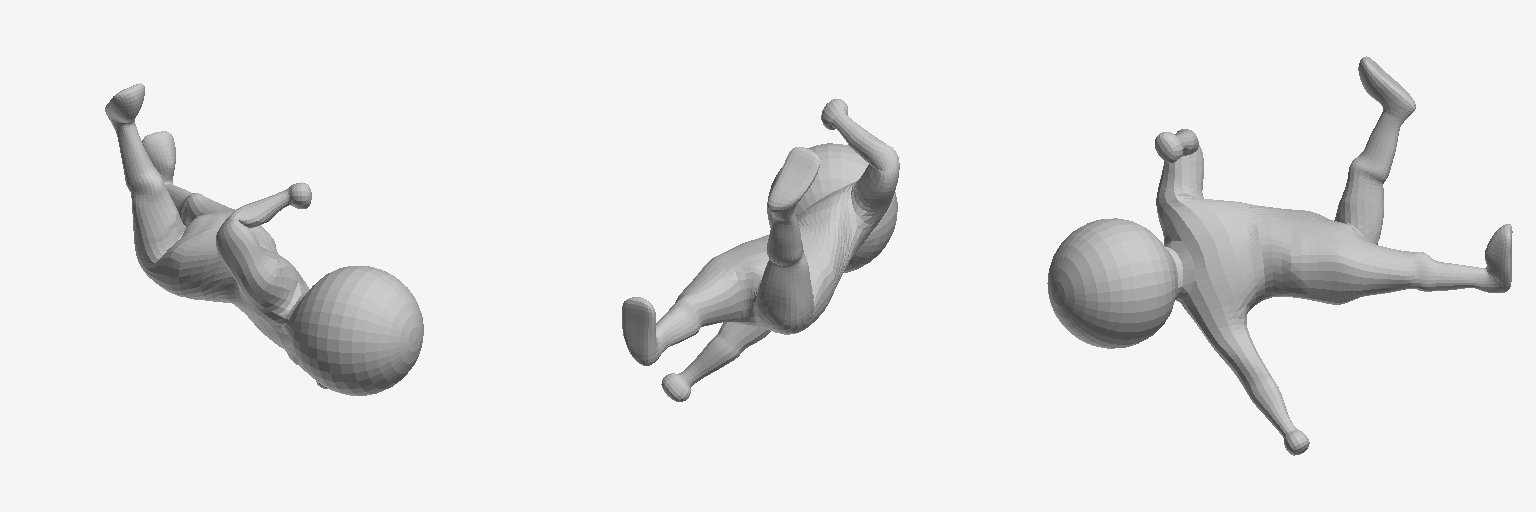
The model's file is LittleGuyRigged.obj.
The picture shows the model from 3 angles: view 1: azimuth 30°, elevation 25°; view 2: azimuth 150°, elevation 25°; view 3: azimuth 270°, elevation 25°; orthographic projection.
Parts seen in each view (by area): view 1: Character_Sphere; view 2: Character_Sphere; view 3: Character_Sphere.
Boxes of the visible parts, x1=… form: Character_Sphere: x1=105, y1=83, x2=423, y2=395; Character_Sphere: x1=622, y1=99, x2=899, y2=401; Character_Sphere: x1=1047, y1=56, x2=1512, y2=455.
Bounding box in the file's own units: 0.5518 × 0.8586 × 1.14.